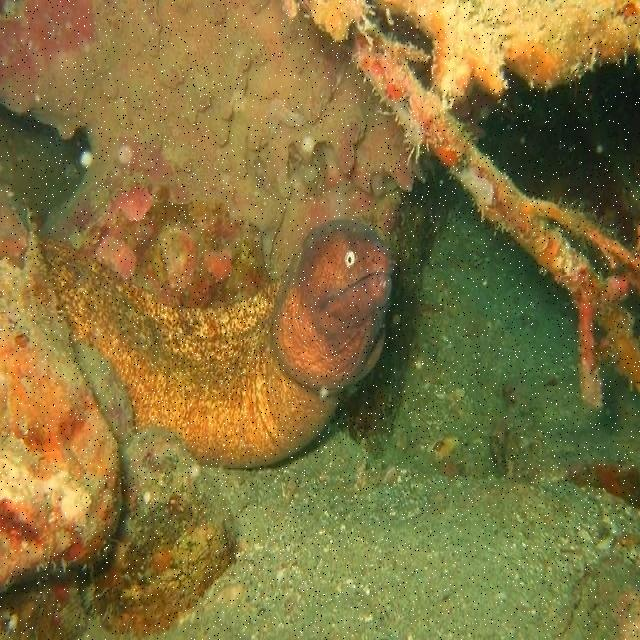aquatic plants: (293, 1, 639, 411)
fish: (42, 221, 393, 470)
reefs: (0, 1, 431, 316), (1, 347, 237, 639), (0, 185, 126, 595), (371, 2, 638, 96)
